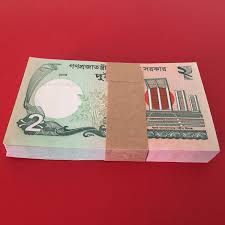2_taka: (28, 64, 196, 142)
